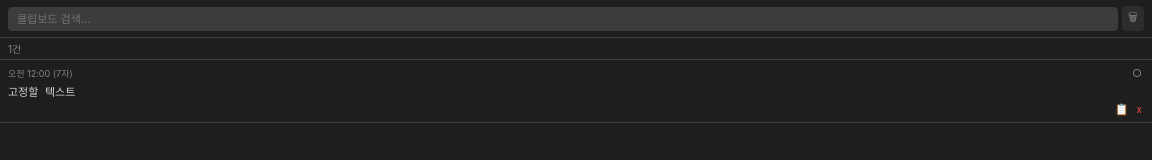
Test: ClipboardPanel › 핀 버튼 클릭 시 항목이 핀 고정된다
The width and height of the screenshot is (1152, 160).
# 핀 버튼은 '○' 텍스트
Click the button titled "고정" at (1137, 73), box top-left (1130, 66), bottom-right (1144, 80)
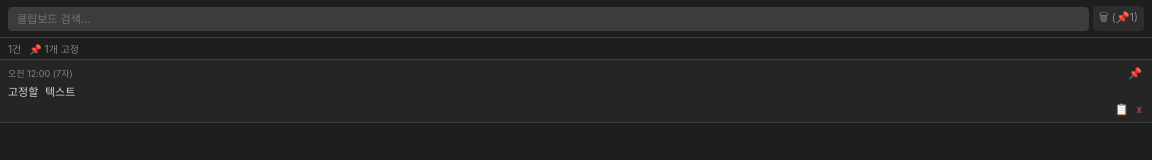
Check: the button titled "고정 해제" is shown, box top-left (1126, 66), bottom-right (1144, 80)
